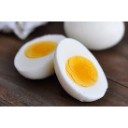begg: (57, 40, 108, 101), (14, 37, 54, 77)
